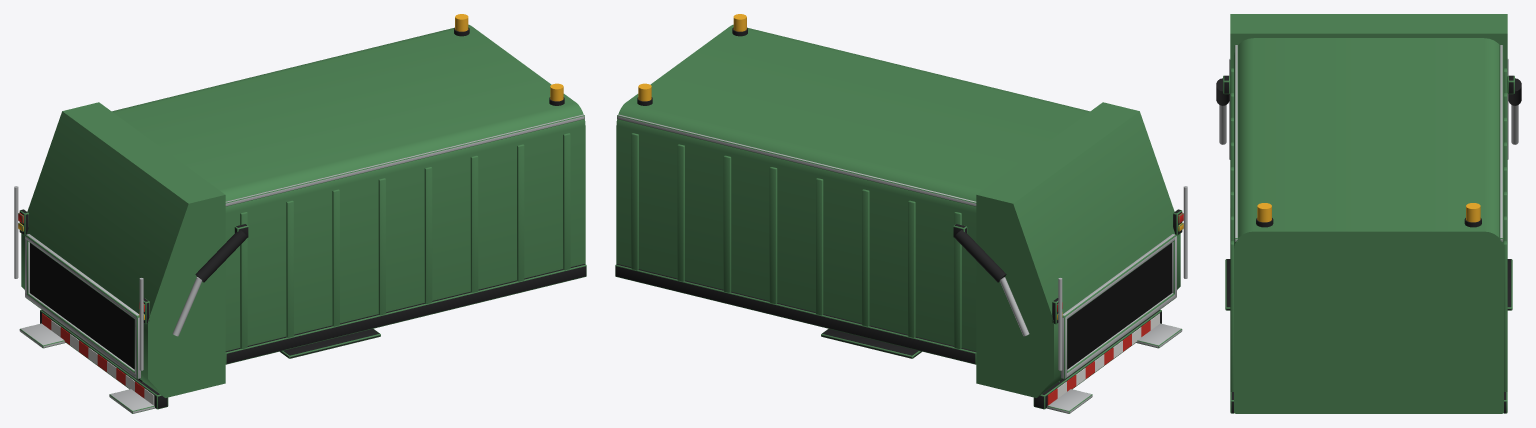
Rendered from lixo-cacamba.glb.
3 renders of one model, left to right at view 1: azimuth 30°, elevation 25°; view 2: azimuth 150°, elevation 25°; view 3: azimuth 270°, elevation 25°, orthographic. The views are drawn at different scales.
Visible parts, largest first — view 1: lixo_caixa, lixo_tampa; view 2: lixo_caixa, lixo_tampa; view 3: lixo_caixa, lixo_tampa.
Part boxes in pixels (<box>): lixo_caixa: <box>112,14,586,364</box>; lixo_tampa: <box>14,102,248,413</box>; lixo_caixa: <box>615,14,1089,364</box>; lixo_tampa: <box>953,102,1187,413</box>; lixo_caixa: <box>1225,38,1512,413</box>; lixo_tampa: <box>1216,14,1521,207</box>.
Bounding box in the file's own units: 4.62 × 2.12 × 2.49.
